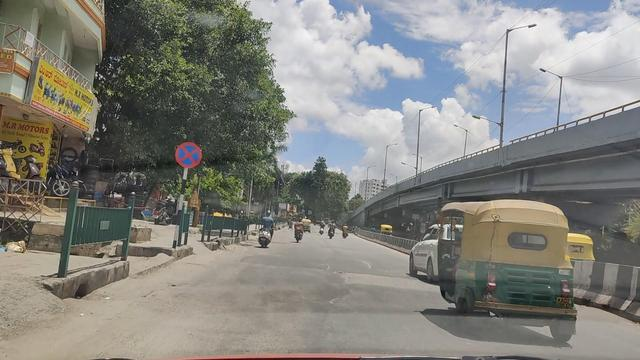LMV: (465, 198, 573, 339), (260, 211, 272, 246), (295, 214, 303, 244), (327, 219, 334, 241)
RoadDamages: (328, 268, 417, 289), (355, 257, 367, 266), (321, 260, 326, 267)
